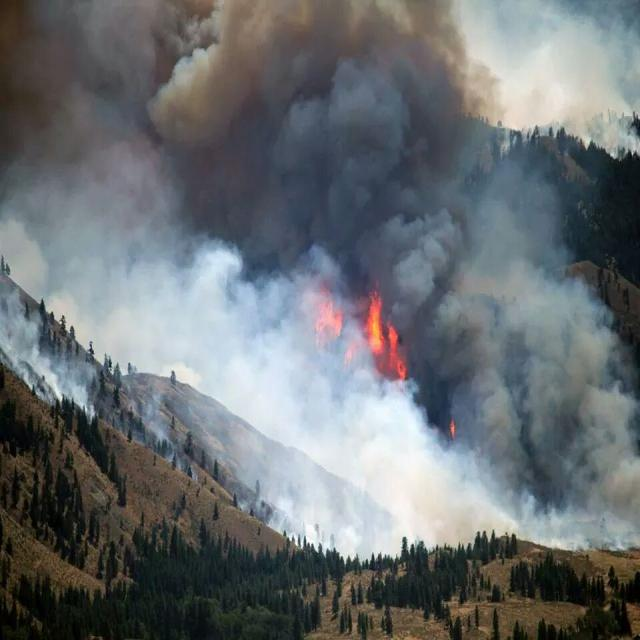smoke: (76, 202, 297, 388), (456, 242, 592, 511), (259, 403, 449, 539)
